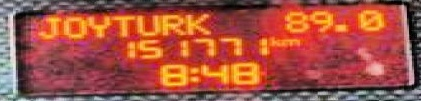-: (330, 22, 350, 31)
0: (353, 7, 383, 30)
1: (175, 37, 188, 57), (125, 39, 135, 59), (257, 36, 267, 55)
4: (198, 62, 228, 83)
5: (135, 39, 163, 59)
7: (216, 36, 244, 55), (190, 36, 213, 56)
8: (155, 62, 188, 86), (228, 61, 259, 85), (282, 9, 307, 32)
9: (307, 8, 330, 32)
X: (84, 13, 109, 37), (157, 12, 183, 35), (183, 12, 211, 33), (132, 12, 157, 35), (61, 13, 84, 37), (36, 16, 59, 37), (109, 14, 132, 35), (185, 65, 198, 82), (279, 36, 300, 45), (267, 35, 279, 46)
